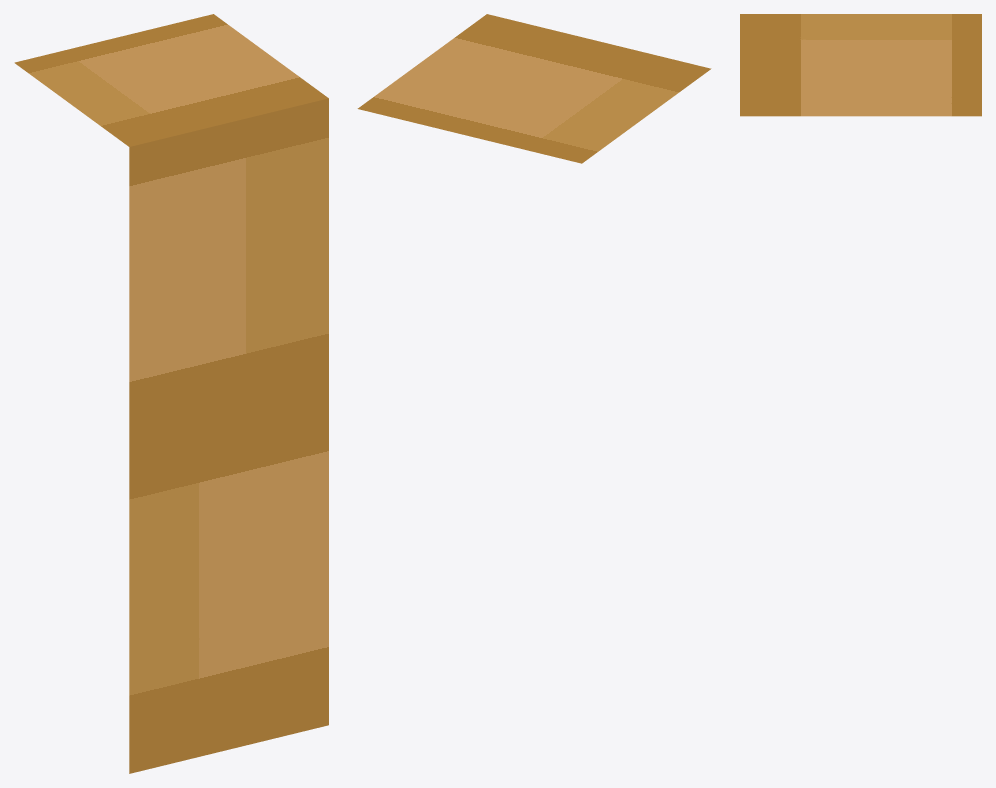
The picture shows the model from 3 angles, left to right: view 1: azimuth 30°, elevation 25°; view 2: azimuth 150°, elevation 25°; view 3: azimuth 270°, elevation 25°; orthographic projection. The views are drawn at different scales.
Size of the model in its own units: 1 by 3 by 1.
1 material, 1 textured.
